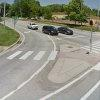Crosswalk: (7, 42, 81, 78)
